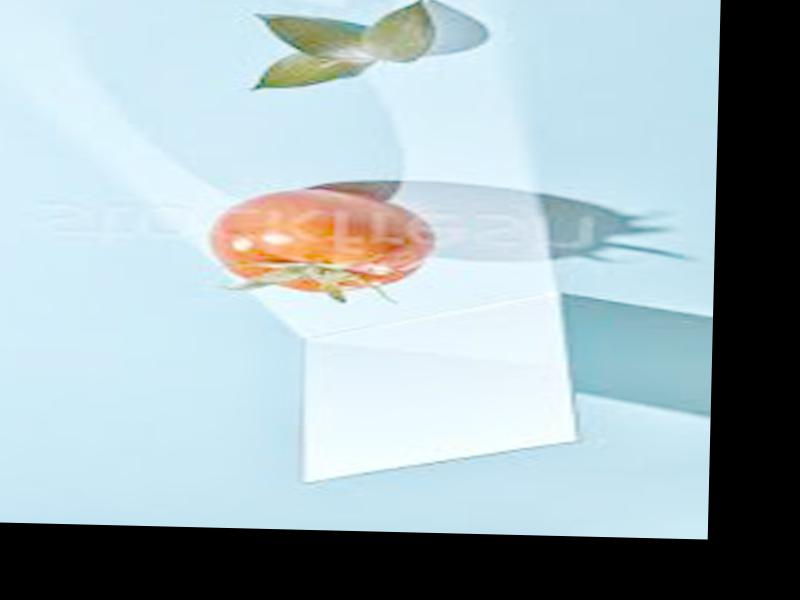Tomato: (202, 186, 436, 296)
